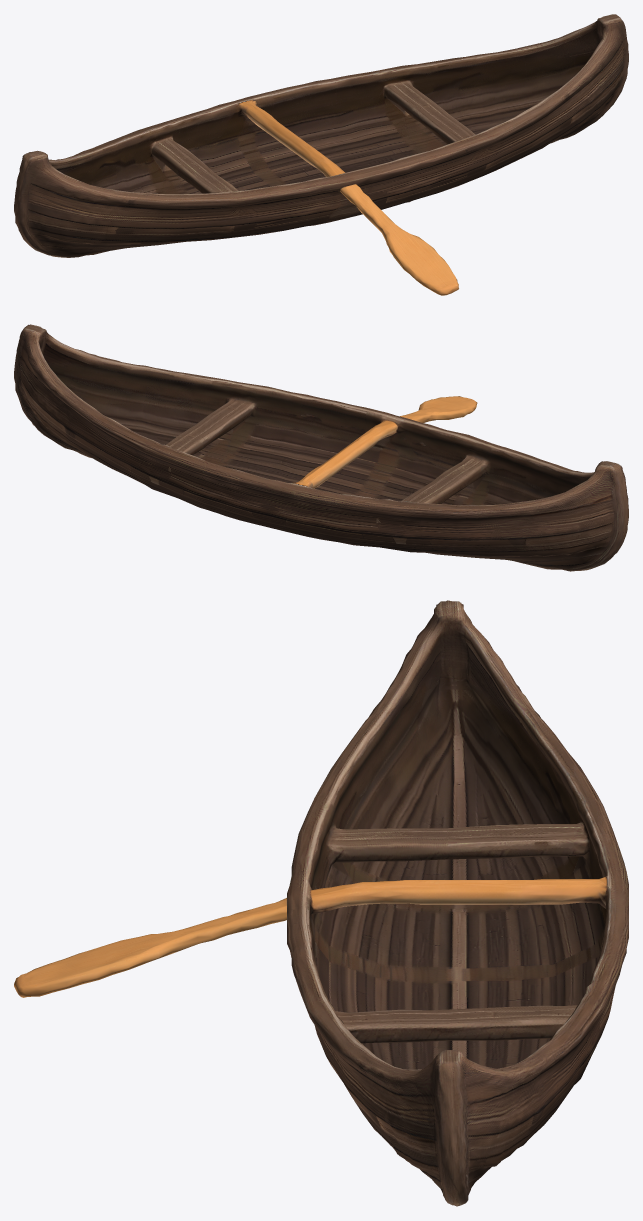
File: ferryman_skiff.glb
3 views of the same model, one above another, from view 1: azimuth 30°, elevation 25°; view 2: azimuth 150°, elevation 25°; view 3: azimuth 270°, elevation 25° (orthographic). The views are drawn at different scales.
Size of the model in its own units: 1.91 by 0.3562 by 1.05.
1 material, 1 textured.
